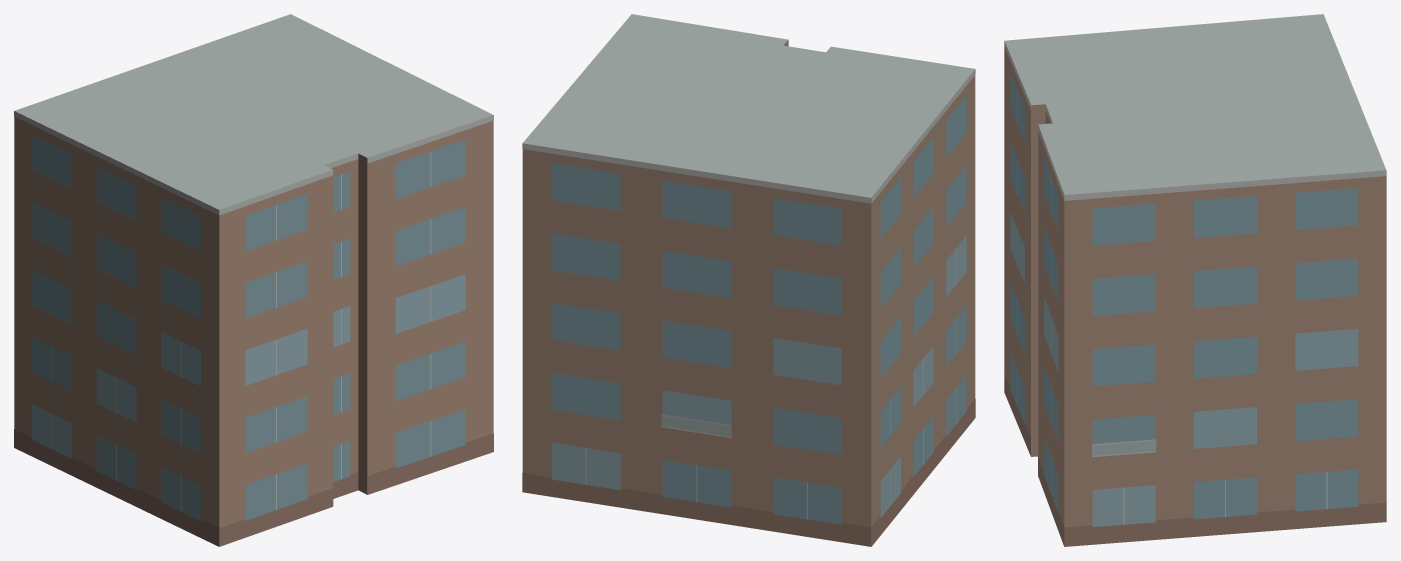
File: survey-upis-32670305.glb
3 renders of one model, left to right at view 1: azimuth 30°, elevation 25°; view 2: azimuth 150°, elevation 25°; view 3: azimuth 270°, elevation 25°, orthographic. The views are drawn at different scales.
Visible parts, largest first — view 1: survey-upis-32670305.tmp; view 2: survey-upis-32670305.tmp; view 3: survey-upis-32670305.tmp.
Boxes of the visible parts, x1,y1,x2,y2 form: survey-upis-32670305.tmp: [14, 14, 493, 546]; survey-upis-32670305.tmp: [522, 14, 975, 546]; survey-upis-32670305.tmp: [1004, 14, 1386, 546].
Size of the model in its own units: 16.47 by 14.9 by 14.68.
